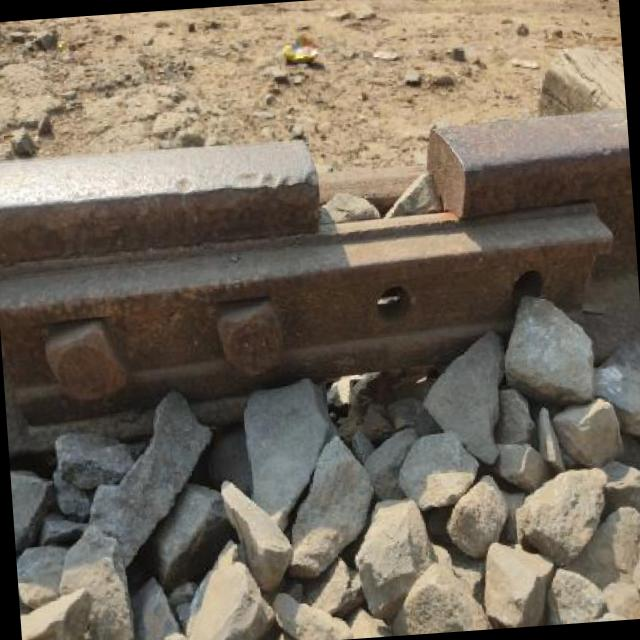defective: (0, 37, 640, 475)
